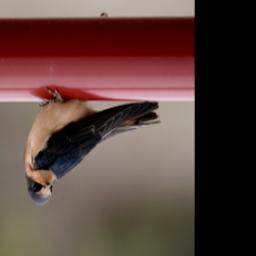Swallow: (23, 81, 162, 209)
